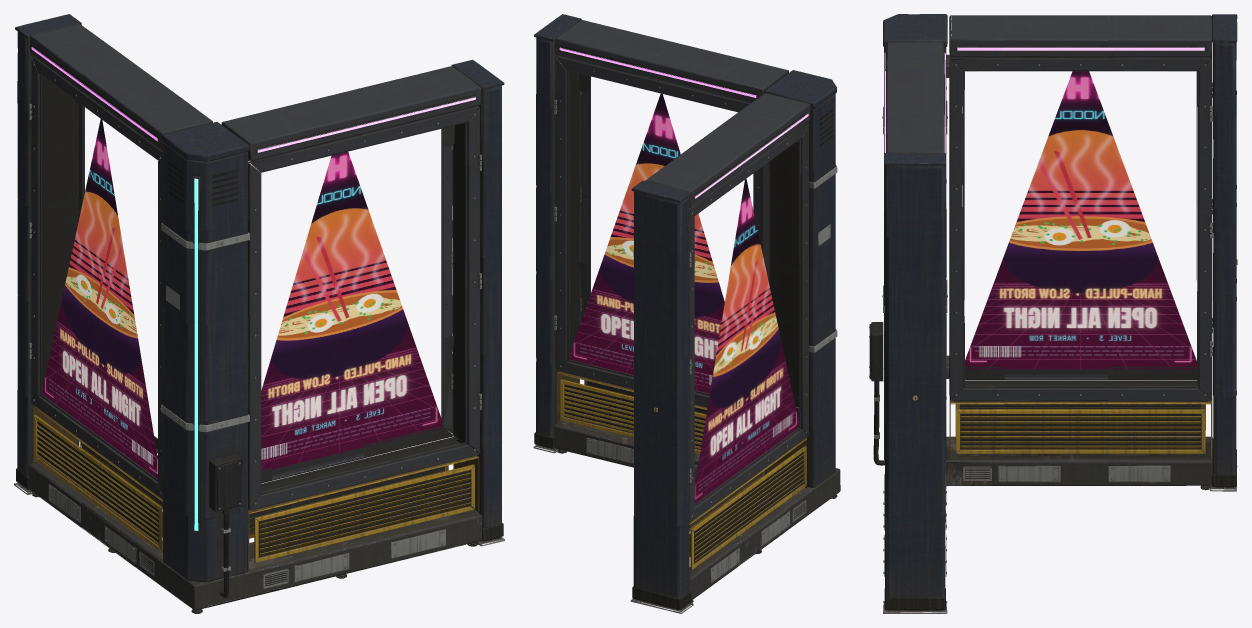
File: preview.glb
The picture shows the model from 3 angles, left to right: view 1: azimuth 30°, elevation 25°; view 2: azimuth 150°, elevation 25°; view 3: azimuth 270°, elevation 25°; orthographic projection. The views are drawn at different scales.
Parts seen in each view (by area): view 1: SM_OCK_StandingSignAd_A_Posters, SM_OCK_StandingSignAd_A_Frame, SM_OCK_StandingSignAd_A_Ends, SM_OCK_StandingSignAd_A_Post, SM_OCK_StandingSignAd_A_Trim, SM_OCK_StandingSignAd_A_Base; view 2: SM_OCK_StandingSignAd_A_Ends, SM_OCK_StandingSignAd_A_Posters, SM_OCK_StandingSignAd_A_Frame, SM_OCK_StandingSignAd_A_Post, SM_OCK_StandingSignAd_A_Trim, SM_OCK_StandingSignAd_A_Base; view 3: SM_OCK_StandingSignAd_A_Ends, SM_OCK_StandingSignAd_A_Posters, SM_OCK_StandingSignAd_A_Frame, SM_OCK_StandingSignAd_A_Trim, SM_OCK_StandingSignAd_A_Base, SM_OCK_StandingSignAd_A_Post.
Boxes of the visible parts, x1=… form: SM_OCK_StandingSignAd_A_Posters: x1=42, y1=119, x2=444, y2=478; SM_OCK_StandingSignAd_A_Frame: x1=29, y1=56, x2=481, y2=510; SM_OCK_StandingSignAd_A_Ends: x1=14, y1=14, x2=504, y2=546; SM_OCK_StandingSignAd_A_Post: x1=161, y1=122, x2=249, y2=597; SM_OCK_StandingSignAd_A_Trim: x1=33, y1=406, x2=479, y2=568; SM_OCK_StandingSignAd_A_Base: x1=28, y1=462, x2=482, y2=613; SM_OCK_StandingSignAd_A_Ends: x1=533, y1=14, x2=810, y2=613; SM_OCK_StandingSignAd_A_Posters: x1=568, y1=93, x2=798, y2=503; SM_OCK_StandingSignAd_A_Frame: x1=554, y1=55, x2=808, y2=522; SM_OCK_StandingSignAd_A_Post: x1=764, y1=70, x2=837, y2=488; SM_OCK_StandingSignAd_A_Trim: x1=556, y1=371, x2=807, y2=574; SM_OCK_StandingSignAd_A_Base: x1=554, y1=420, x2=840, y2=603; SM_OCK_StandingSignAd_A_Ends: x1=883, y1=14, x2=1237, y2=613; SM_OCK_StandingSignAd_A_Posters: x1=965, y1=71, x2=1196, y2=369; SM_OCK_StandingSignAd_A_Frame: x1=887, y1=36, x2=1212, y2=400; SM_OCK_StandingSignAd_A_Trim: x1=949, y1=383, x2=1212, y2=458; SM_OCK_StandingSignAd_A_Base: x1=883, y1=436, x2=1213, y2=576; SM_OCK_StandingSignAd_A_Post: x1=869, y1=14, x2=950, y2=465.
Size of the model in its own units: 1.71 by 2.4 by 1.78.
Materials: 6 (6 with a texture image).
